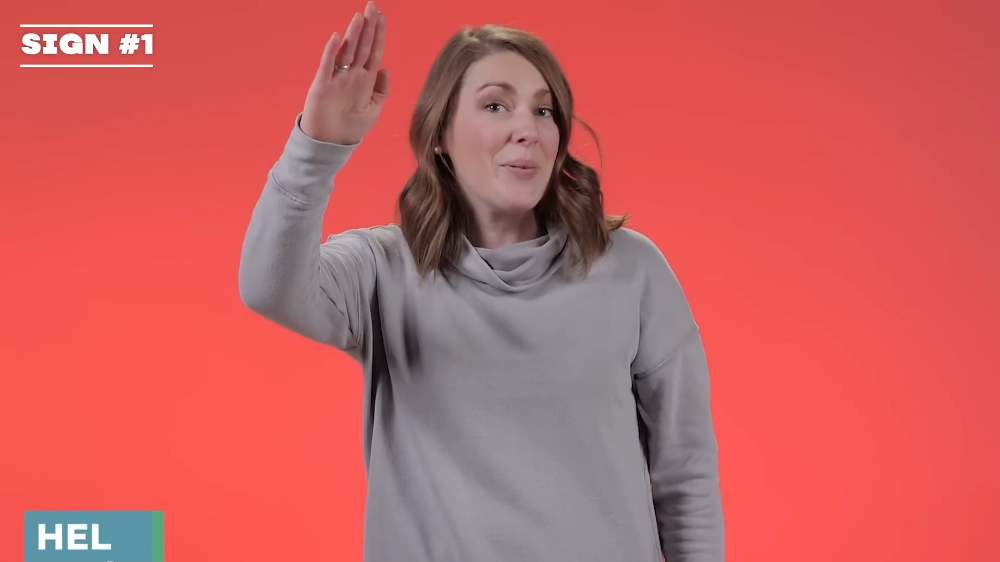hello: (295, 1, 394, 143)
